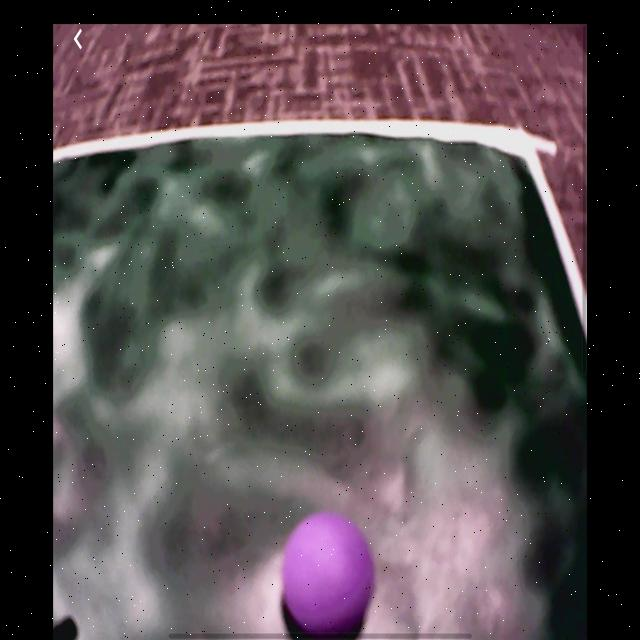ball: (280, 509, 375, 637)
